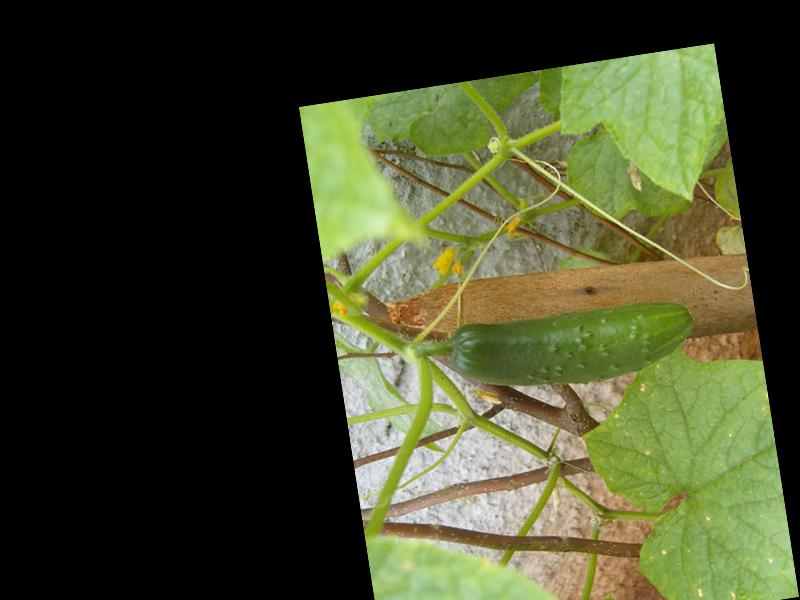Cucumber: (442, 289, 700, 403)
